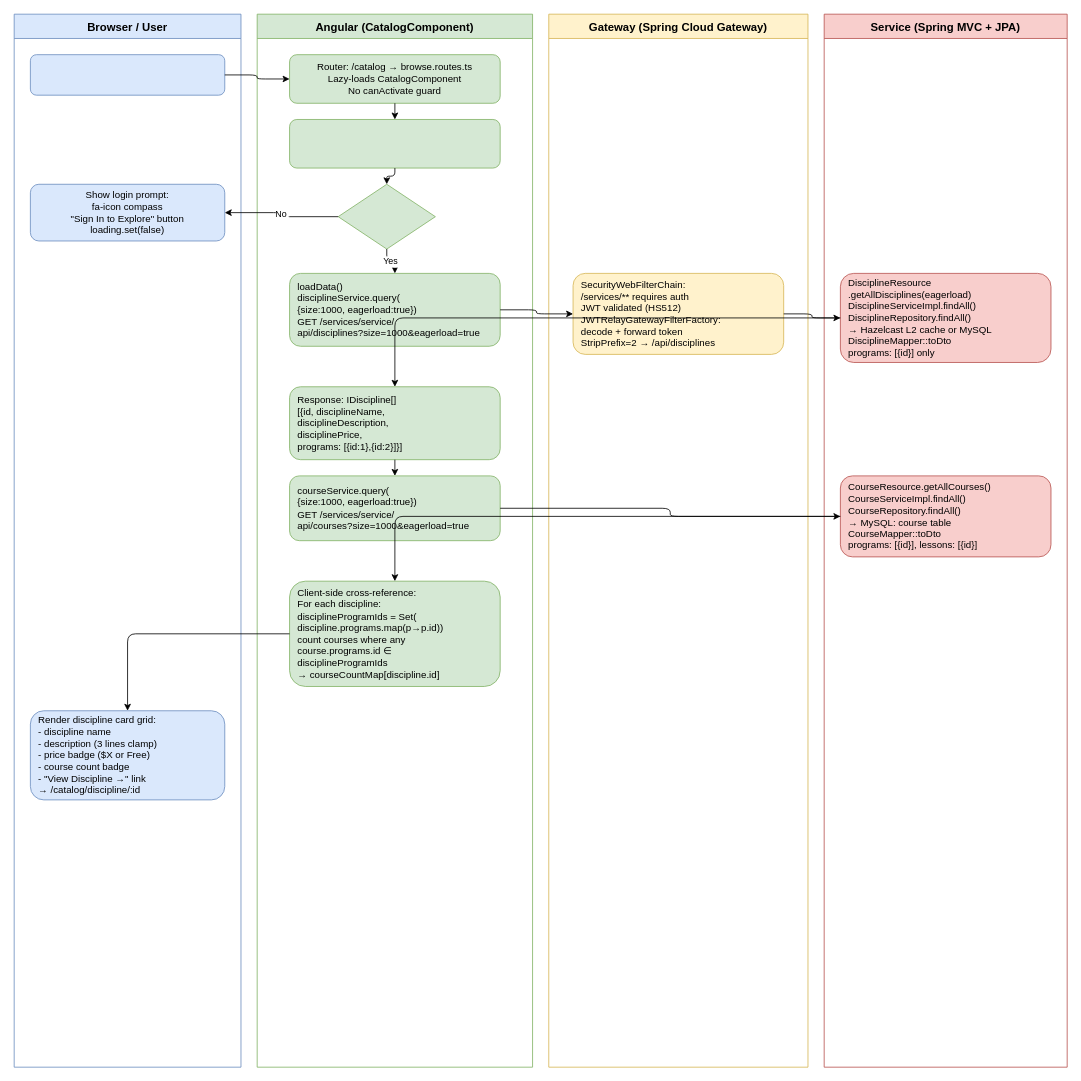
The diagram is 1081 pixels wide and 1081 high, and some of its shapes have lost their labels. Each missing label, with the centre of its shape:
"account !== null?" belongs at pixel 386 216.
"CatalogComponent.ngOnInit() accountService.identity() .subscribe(account ⇒ ...)" belongs at pixel 394 143.
"User navigates to /catalog (clicks Explore in navbar)" belongs at pixel 127 74.
